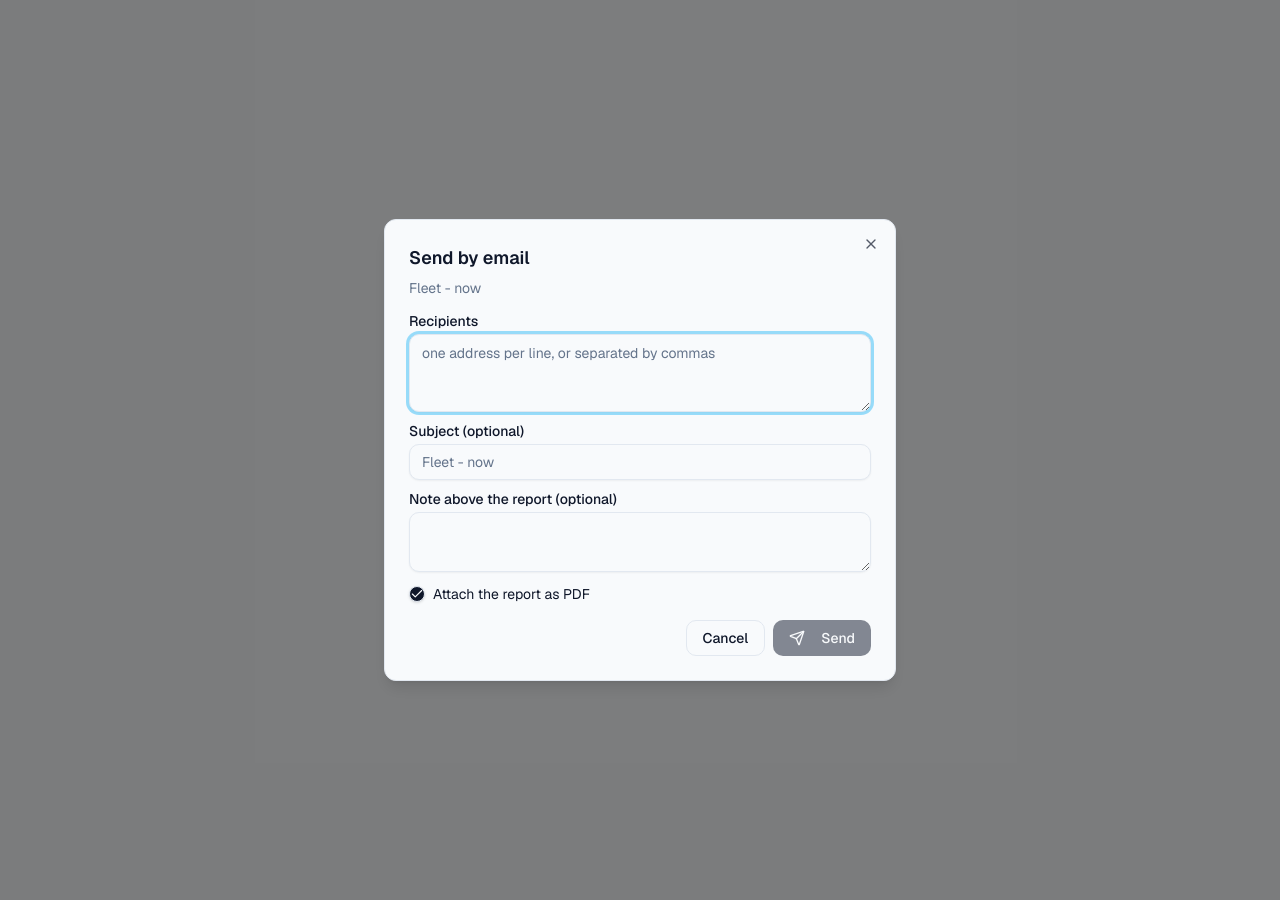
Test: SendSnapshotDialog › will not send without recipients or with a bad address
Check: the button "Send" is disabled, box [773,620,871,656]
In the text box labelled "Recipients": (640, 373) [409,334,871,412], type "ok@example.org, nope"
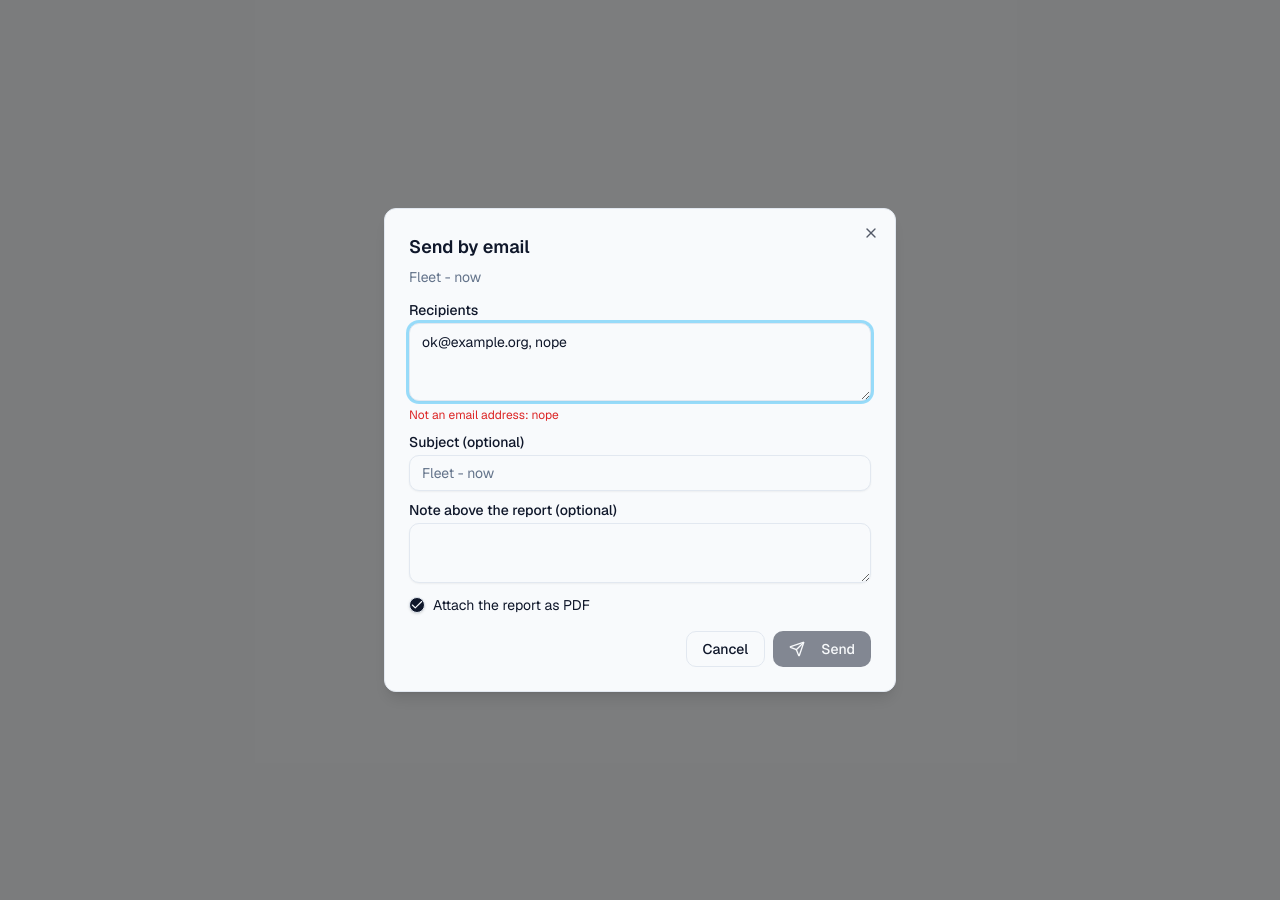
Check: the button "Send" is disabled, box [773,631,871,667]
Check: the text "Not an email address: nope" is shown, box [409,407,559,423]
